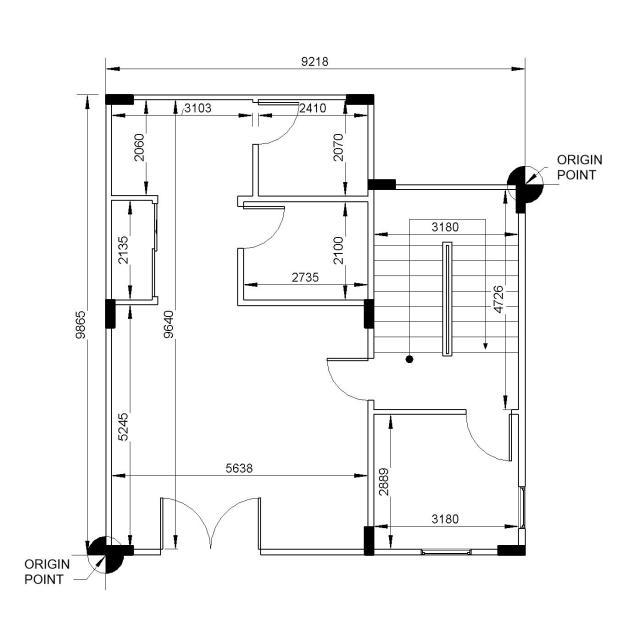Column: (105, 299, 116, 329), (105, 94, 134, 105), (367, 179, 396, 190), (497, 545, 526, 556), (346, 94, 374, 105), (106, 545, 134, 556), (364, 299, 374, 329), (364, 526, 374, 556), (516, 184, 526, 213)
Door: (466, 409, 512, 462), (237, 206, 285, 249), (252, 102, 299, 145), (327, 358, 374, 400)
Double-Door: (160, 498, 261, 556)
Sliding Door: (152, 203, 158, 297)
Staircase: (374, 190, 518, 353)
Window: (518, 486, 526, 529), (421, 549, 472, 555)
